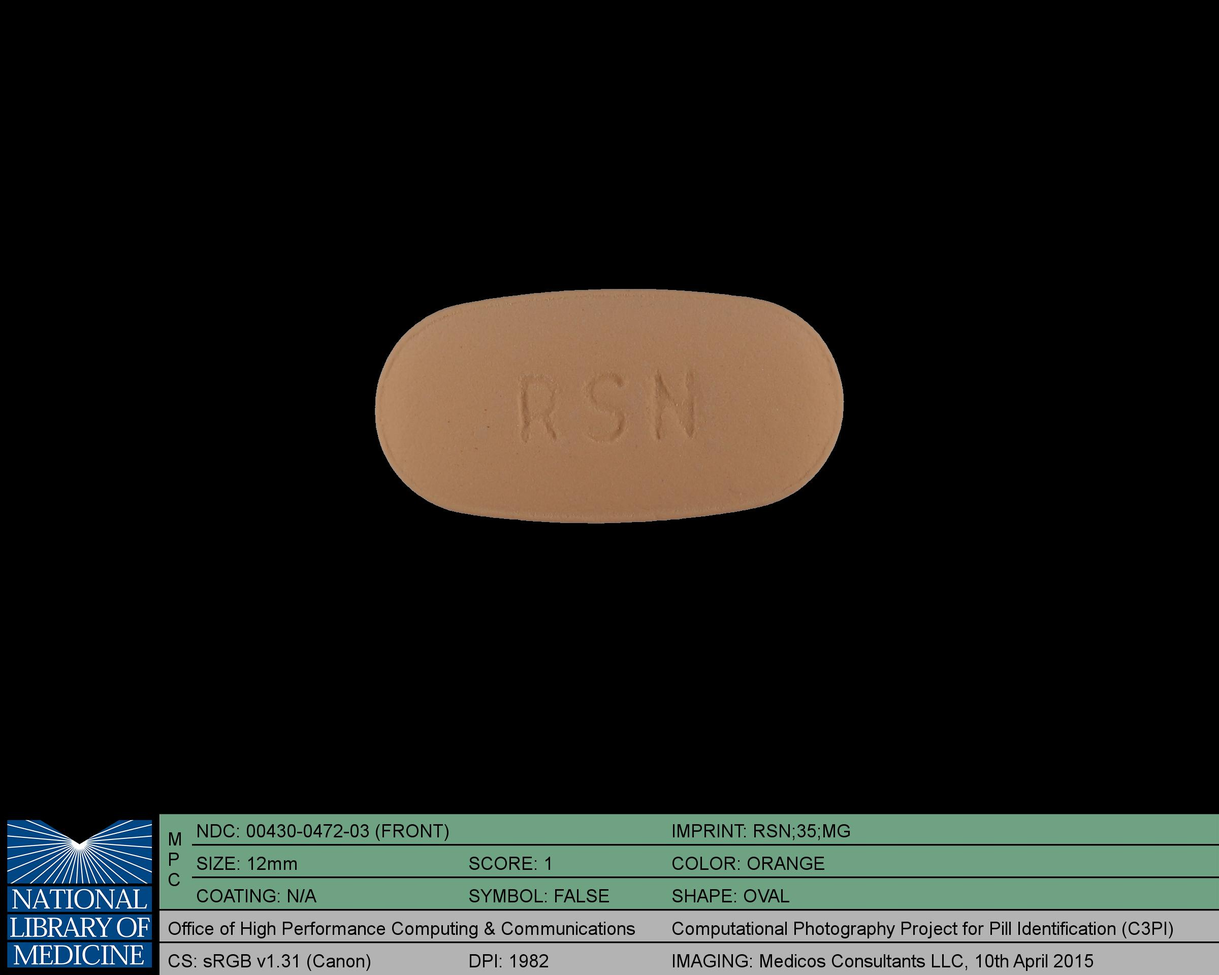Pill: (362, 274, 855, 533)
